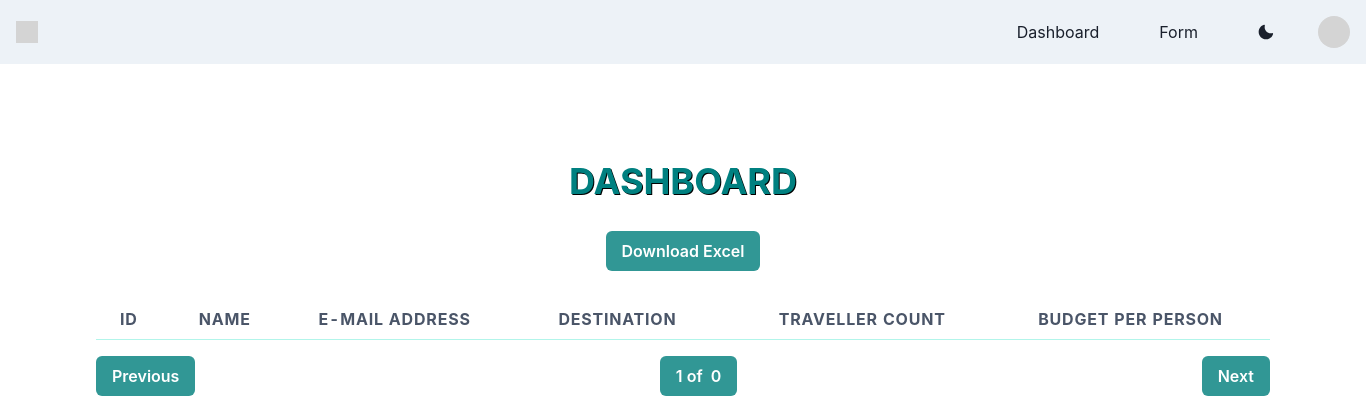
Test: Pagination Test › should navigate through pages using pagination
Expected: the button with id "current" shows "1", [660, 356, 737, 396]
# Simulate clicking on the next page button
Click the button with id "next": (1236, 376) [1202, 356, 1270, 396]
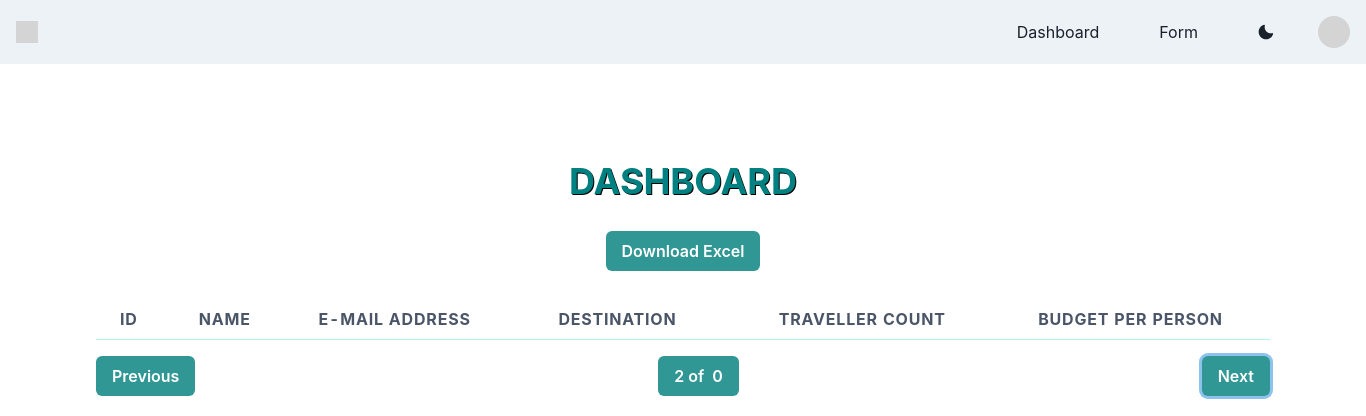
Expected: the button with id "current" shows "2", [658, 356, 739, 396]
# Simulate clicking on the previous page button
Click the button "Previous": (146, 376) [96, 356, 195, 396]
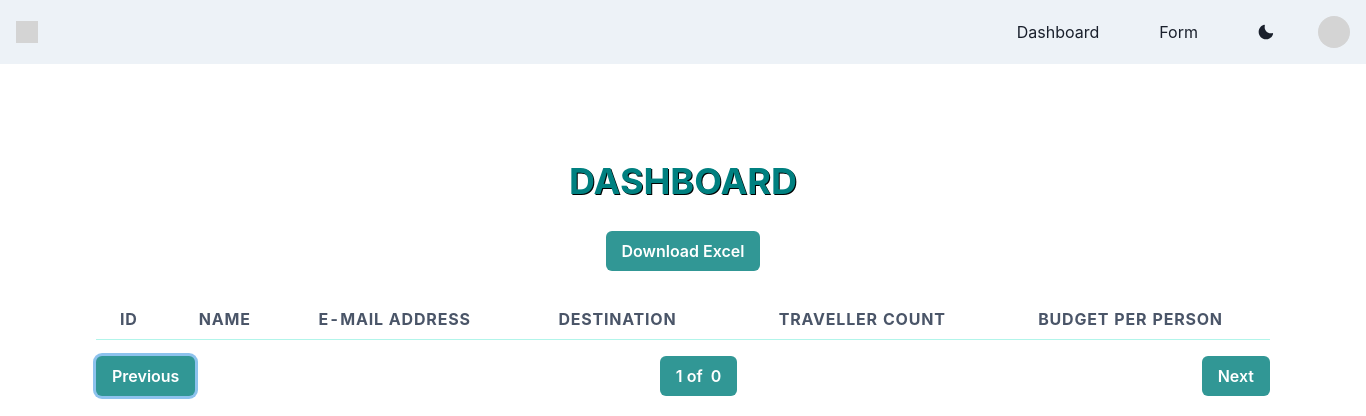
Expected: the button with id "current" shows "1", [660, 356, 737, 396]
